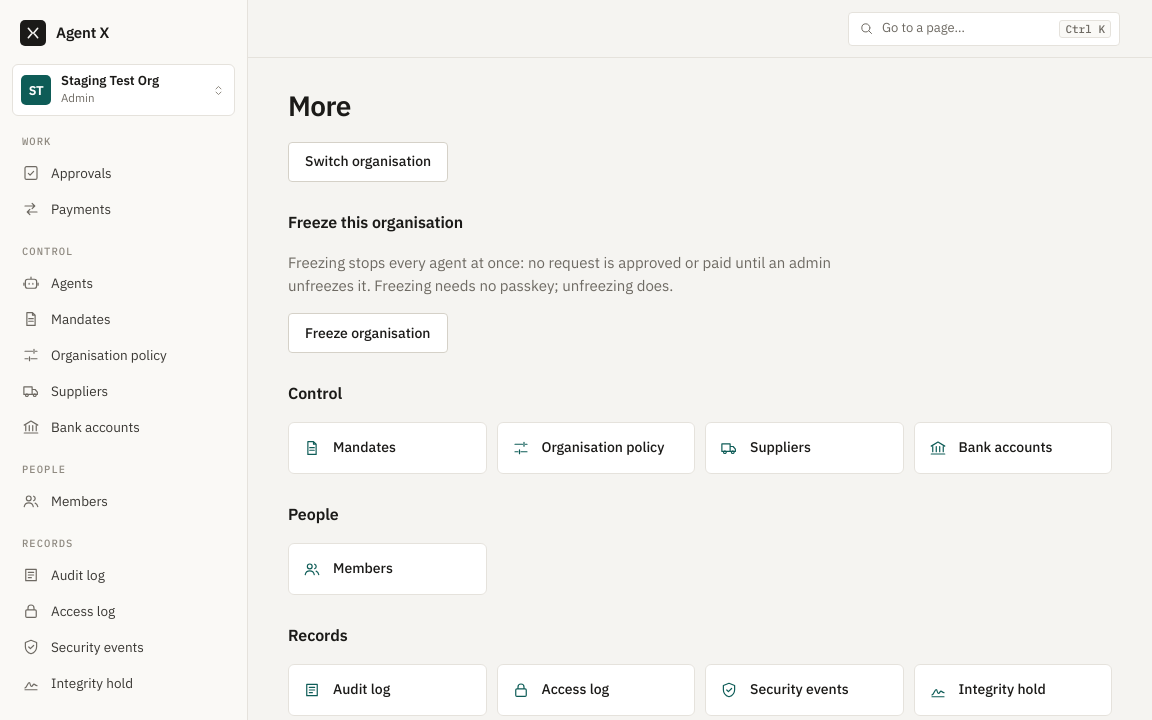
Test: the command bar beside other modals and keyboards (S216 review) › lets a member of several organisations switch from More, as a phone has no sidebar switch
Click the button "Switch organisation": point(368, 162) [288,142,448,182]
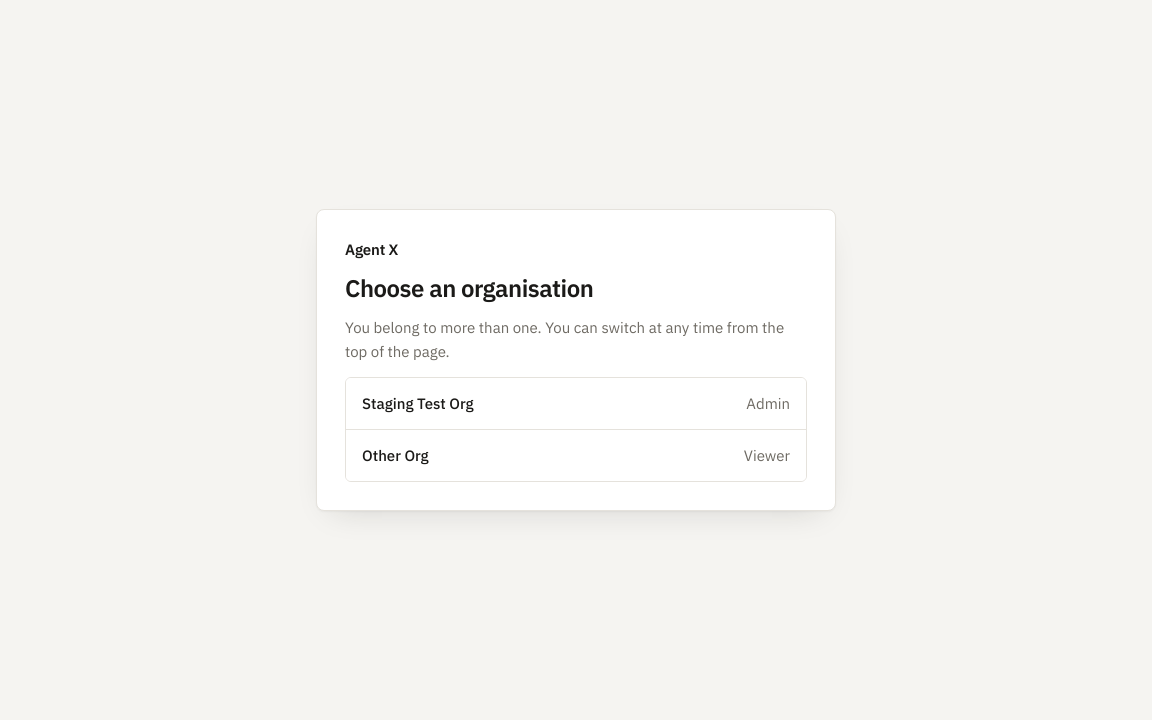
Now the heading "Choose an organisation" is shown, box [345,272,593,304]
